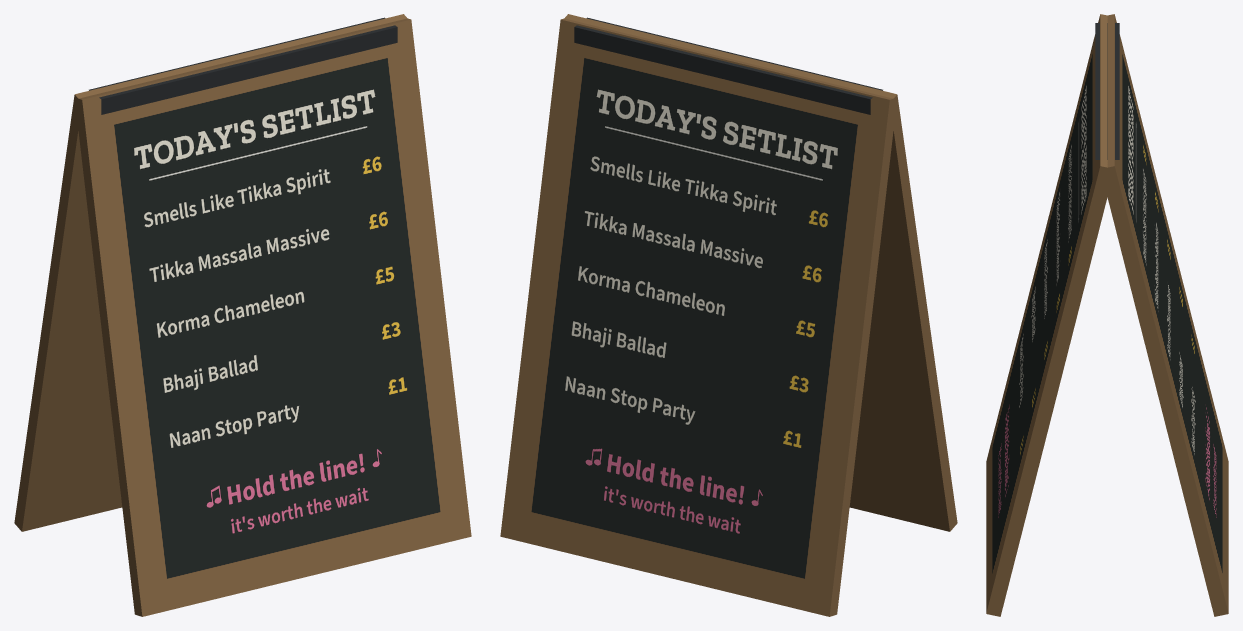
File: lwf_food_van_menu_board_korma_v1.glb
3 renders of one model, left to right at view 1: azimuth 30°, elevation 25°; view 2: azimuth 150°, elevation 25°; view 3: azimuth 270°, elevation 25°, orthographic. The views are drawn at different scales.
Visible parts, largest first — view 1: LWF_FoodVan_MenuBoard_Korma; view 2: LWF_FoodVan_MenuBoard_Korma; view 3: LWF_FoodVan_MenuBoard_Korma.
Boxes of the visible parts, x1,y1,x2,y2 form: LWF_FoodVan_MenuBoard_Korma: [14, 14, 471, 616]; LWF_FoodVan_MenuBoard_Korma: [500, 14, 957, 616]; LWF_FoodVan_MenuBoard_Korma: [986, 14, 1228, 616].
Size of the model in its own units: 0.44 by 0.6082 by 0.2965.
Materials: 3 (1 with a texture image).
